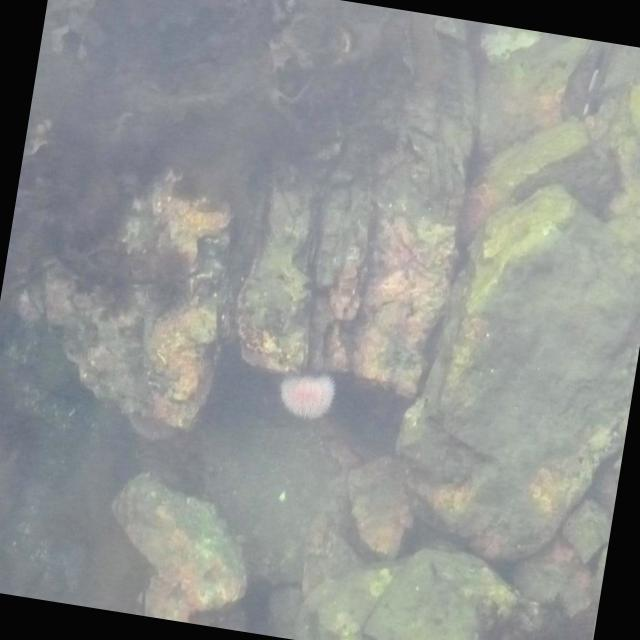Deniz Kestanesi: (274, 366, 337, 423)
